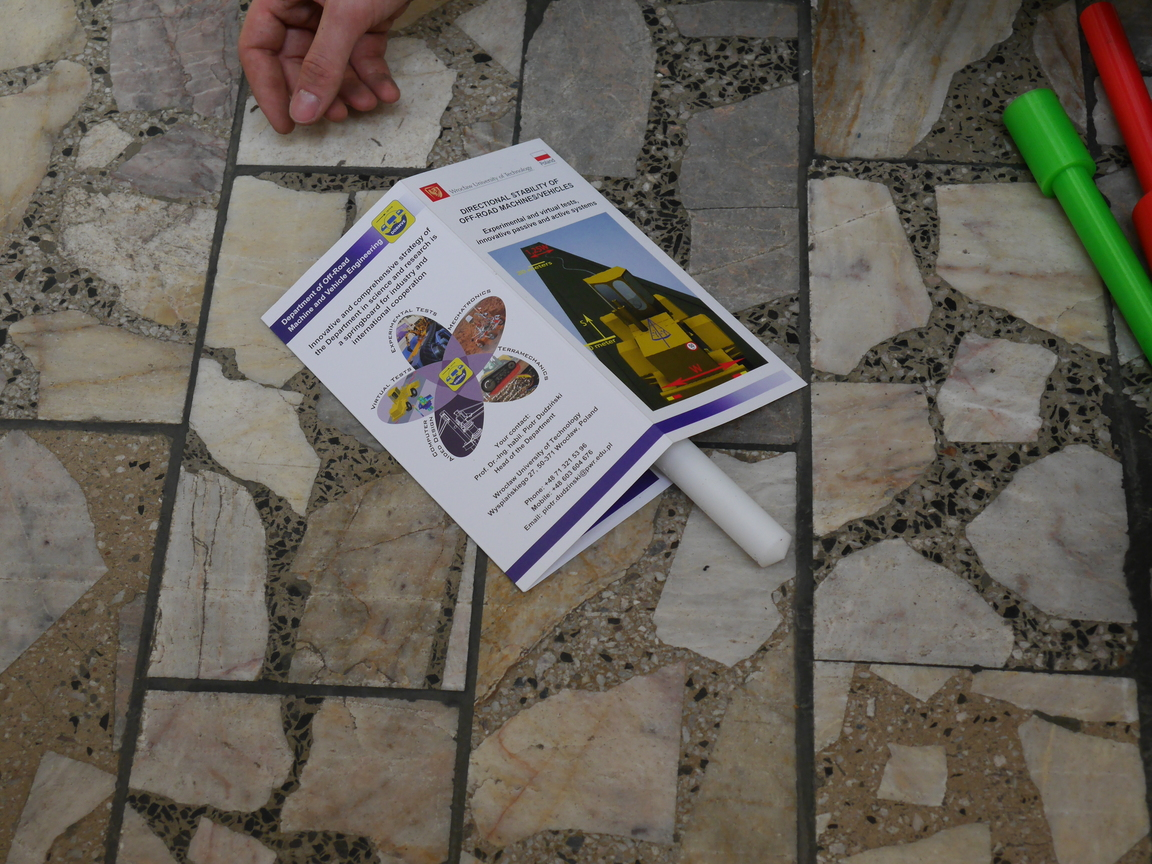cargo_g: (1003, 88, 1152, 356), (657, 437, 791, 568)
